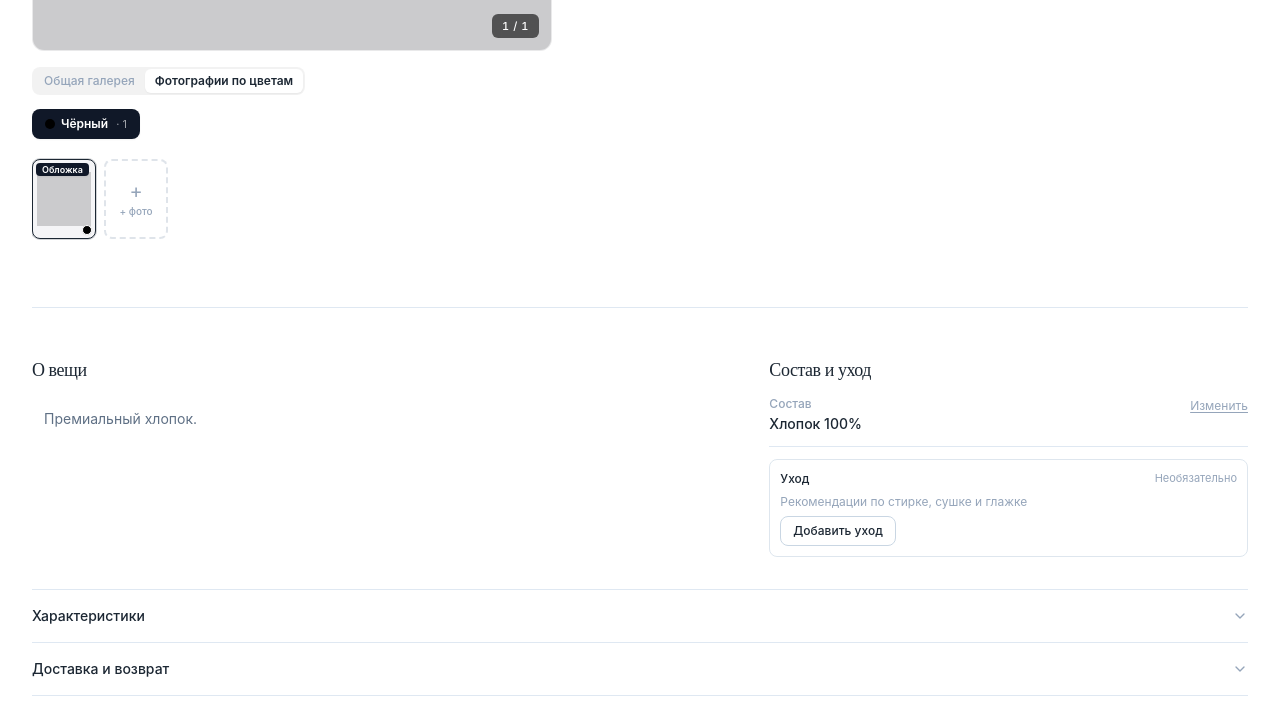
Test case: ProductStudioVisualWorkspace - In-Canvas Constructor › B. Direct-Add Affordances and Controls in Real PDP › 15. Characteristics shows "Сначала выберите категорию товара" and "Выбрать категорию" when category missing
(page scrolled)
What coordinates should you click on to do the following:
click the button "Характеристики"
I would click on:
 (88, 615)
Its box is 32,590 -> 1248,642.
(page scrolled)
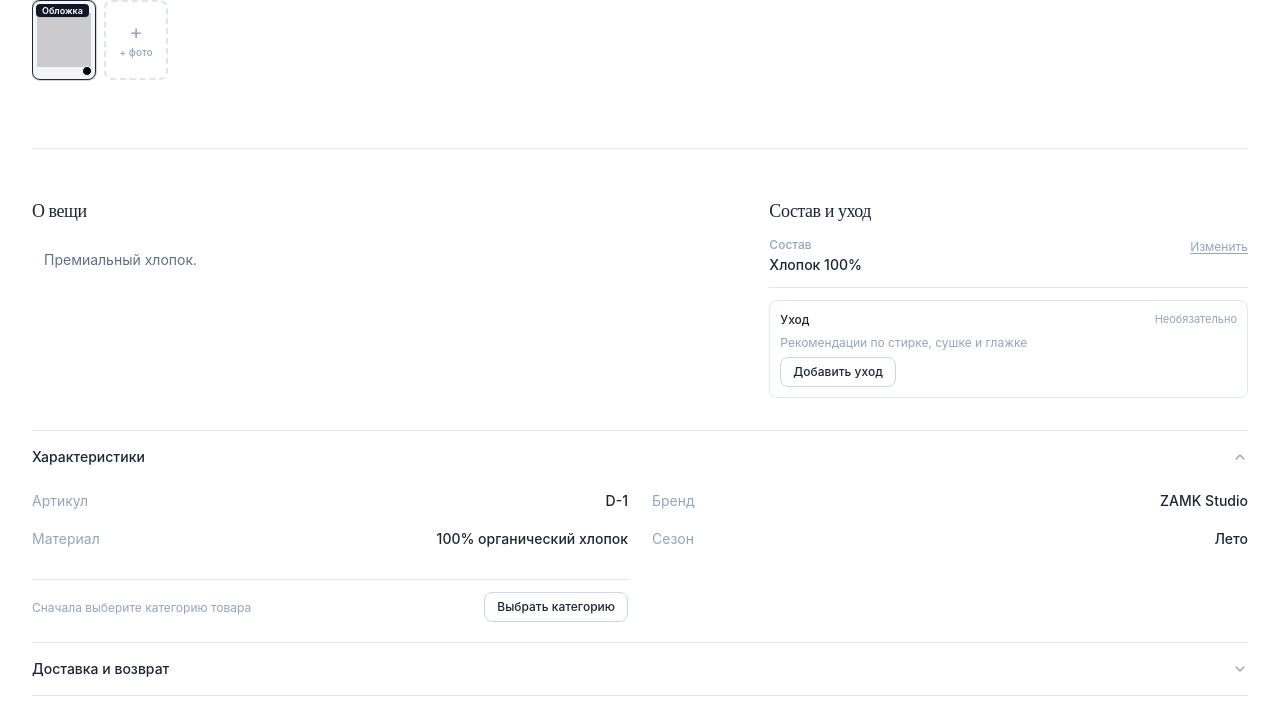
Now the text "Сначала выберите категорию товара" is shown, box 32,600 -> 251,615
Now the button with test id "choose-category-characteristics-btn" reads "Выбрать категорию", box 484,592 -> 628,622
